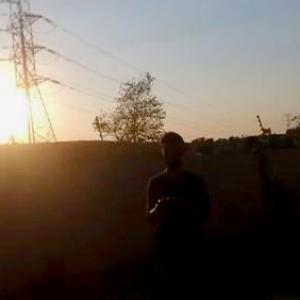follow: (142, 125, 214, 299)
